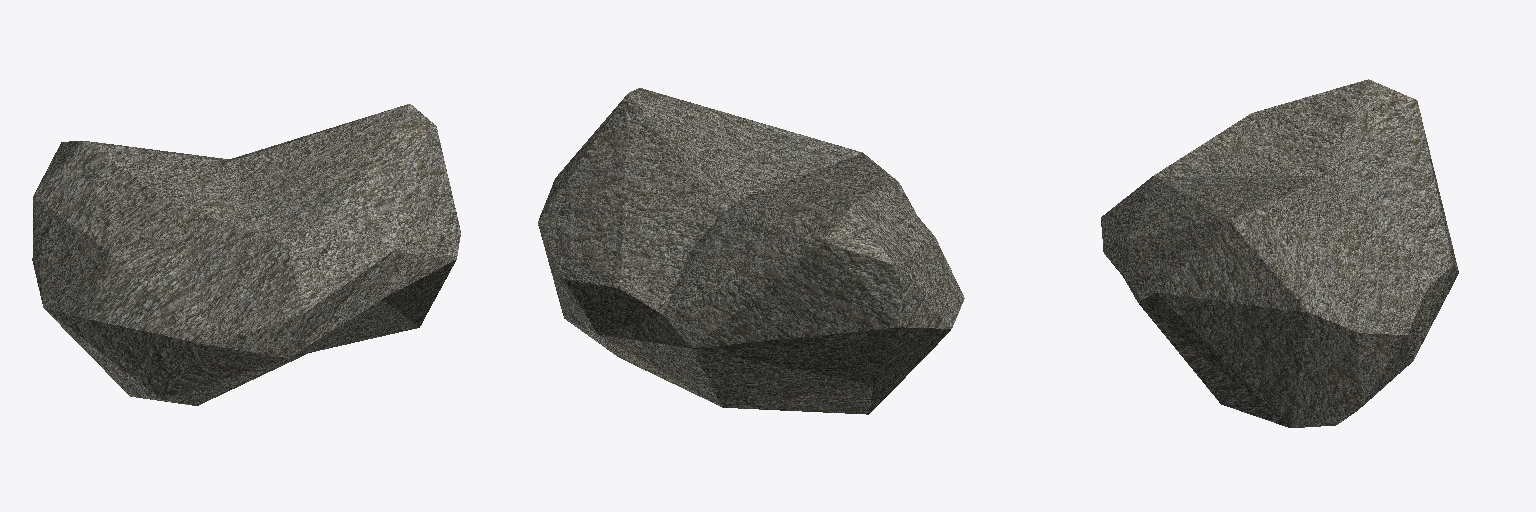
3 views of the same model, side by side, from view 1: azimuth 30°, elevation 25°; view 2: azimuth 150°, elevation 25°; view 3: azimuth 270°, elevation 25° (orthographic).
Visible parts, largest first — view 1: cubicflat64_Cube.001; view 2: cubicflat64_Cube.001; view 3: cubicflat64_Cube.001.
Part boxes in pixels (x1,y1,x2,y2): cubicflat64_Cube.001: (32, 104, 460, 405); cubicflat64_Cube.001: (538, 88, 964, 414); cubicflat64_Cube.001: (1101, 79, 1458, 427).
Bounding box in the file's own units: 2.54 × 1.49 × 1.99.
1 materials, 1 textured.